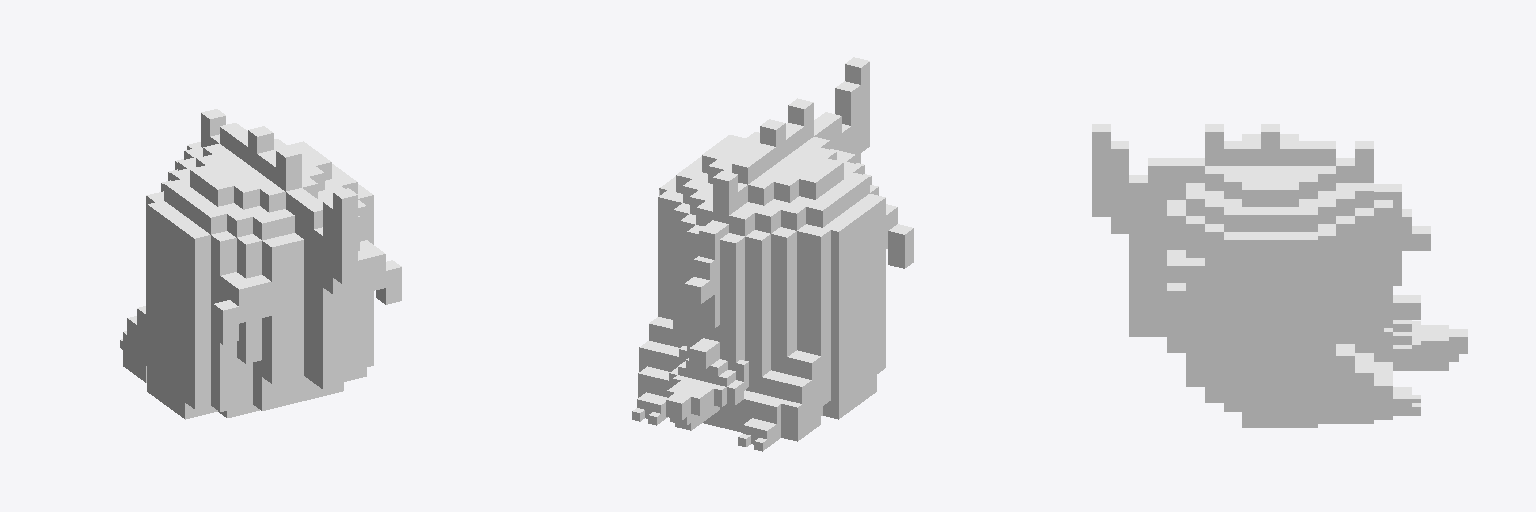
The model's file is lizardbomb-1.obj.
The picture shows the model from 3 angles: view 1: azimuth 30°, elevation 25°; view 2: azimuth 150°, elevation 25°; view 3: azimuth 270°, elevation 25°; orthographic projection.
Visible parts, largest first — view 1: object 1; view 2: object 1; view 3: object 1.
Boxes of the visible parts, box(x1,y1,x2,y2) form: object 1: box(120, 109, 401, 419); object 1: box(632, 57, 913, 451); object 1: box(1092, 124, 1467, 427).
Size of the model in its own units: 2.2 by 3 by 4.